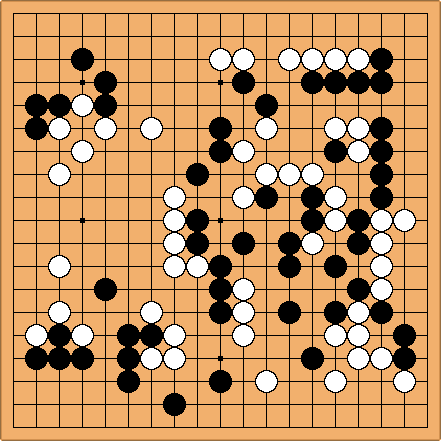black: (134, 319, 166, 351), (92, 277, 116, 301), (161, 392, 185, 416), (208, 369, 232, 393), (277, 300, 301, 324), (300, 346, 324, 370), (49, 326, 67, 344), (27, 350, 43, 366), (27, 96, 43, 112), (27, 119, 43, 135), (50, 350, 66, 366), (50, 96, 66, 112), (73, 350, 89, 366), (73, 50, 89, 66), (96, 73, 112, 89), (96, 96, 112, 112), (119, 327, 135, 343), (119, 350, 135, 366), (119, 373, 135, 389), (188, 212, 204, 228), (188, 235, 204, 251), (188, 165, 204, 181), (212, 258, 228, 274), (212, 281, 228, 297), (212, 304, 228, 320), (212, 119, 228, 135), (212, 142, 228, 158), (235, 235, 251, 251), (235, 73, 251, 89), (258, 96, 274, 112), (258, 188, 274, 204), (281, 235, 297, 251), (281, 258, 297, 274), (304, 212, 320, 228), (304, 73, 320, 89), (304, 188, 320, 204), (327, 258, 343, 274), (327, 304, 343, 320), (327, 73, 343, 89), (327, 142, 343, 158), (350, 212, 366, 228), (350, 235, 366, 251), (350, 73, 366, 89), (373, 304, 389, 320), (373, 50, 389, 66), (373, 73, 389, 89), (373, 119, 389, 135), (373, 142, 389, 158), (373, 165, 389, 181), (373, 188, 389, 204), (396, 327, 412, 343), (396, 350, 412, 366), (351, 282, 365, 296)
white: (26, 326, 44, 344), (49, 257, 67, 275), (49, 303, 67, 321), (49, 118, 67, 136), (49, 164, 67, 182), (72, 326, 90, 344), (72, 95, 90, 113), (72, 141, 90, 159), (95, 118, 113, 136), (141, 303, 159, 321), (141, 349, 159, 367), (141, 118, 159, 136), (164, 211, 182, 229), (164, 234, 182, 252), (164, 257, 182, 275), (164, 326, 182, 344), (164, 349, 182, 367), (164, 187, 182, 205), (187, 257, 205, 275), (211, 49, 229, 67), (234, 280, 252, 298), (234, 303, 252, 321), (234, 326, 252, 344), (234, 49, 252, 67), (234, 141, 252, 159), (234, 187, 252, 205), (257, 372, 275, 390), (257, 118, 275, 136), (257, 164, 275, 182), (280, 49, 298, 67), (280, 164, 298, 182), (303, 234, 321, 252), (303, 49, 321, 67), (303, 164, 321, 182), (326, 211, 344, 229), (326, 326, 344, 344), (326, 372, 344, 390), (326, 49, 344, 67), (326, 118, 344, 136), (326, 187, 344, 205), (349, 303, 367, 321), (349, 326, 367, 344), (349, 349, 367, 367), (349, 49, 367, 67), (349, 118, 367, 136), (349, 141, 367, 159), (372, 211, 390, 229), (372, 234, 390, 252), (372, 257, 390, 275), (372, 280, 390, 298), (372, 349, 390, 367), (395, 211, 413, 229), (395, 372, 413, 390)
